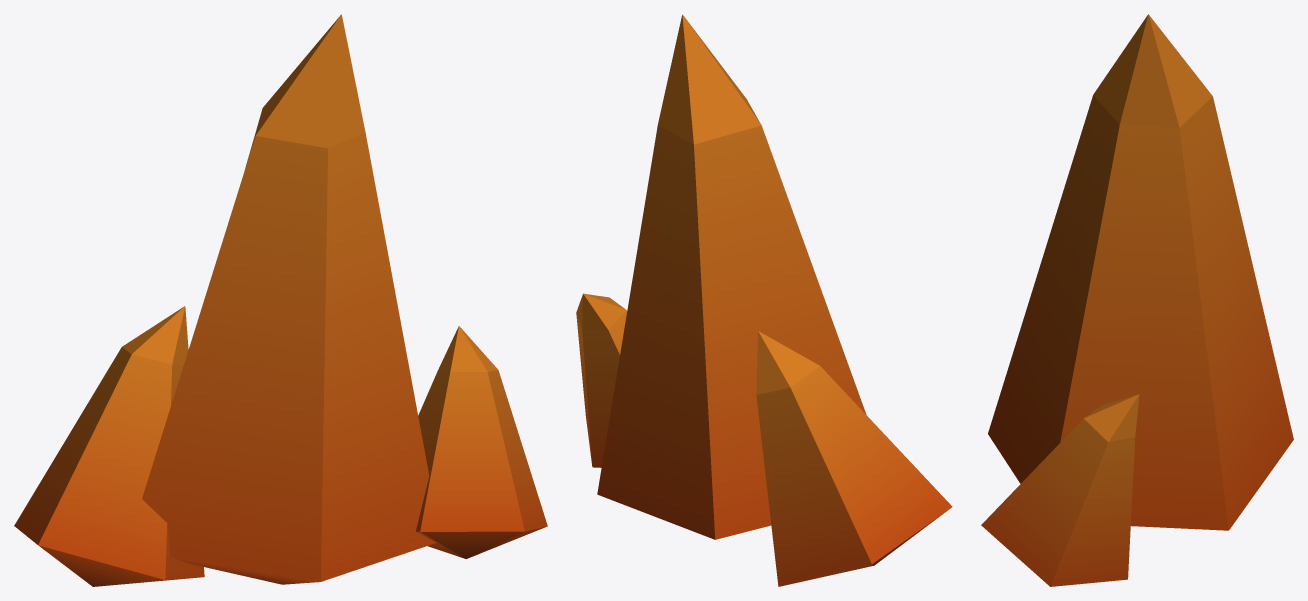
3 views of the same model, side by side, from view 1: azimuth 30°, elevation 25°; view 2: azimuth 150°, elevation 25°; view 3: azimuth 270°, elevation 25° (orthographic). The views are drawn at different scales.
Parts seen in each view (by area): view 1: emberstone_shard; view 2: emberstone_shard; view 3: emberstone_shard.
Boxes of the visible parts, x1,y1,x2,y2 form: emberstone_shard: (14, 14, 547, 586); emberstone_shard: (576, 14, 952, 586); emberstone_shard: (981, 14, 1293, 586).
Size of the model in its own units: 0.8839 by 1.02 by 0.5415.
